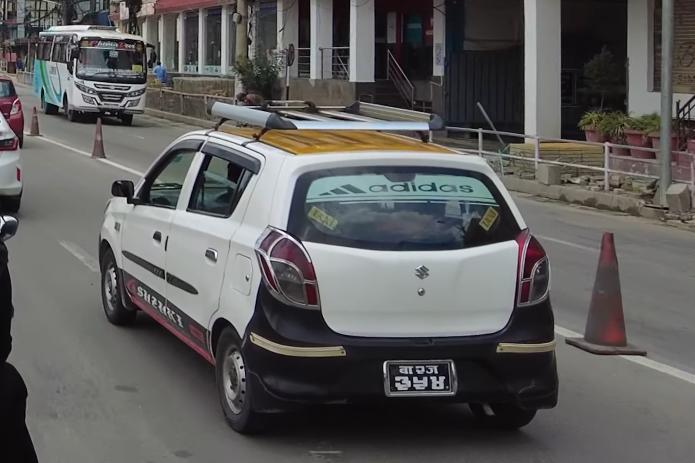bus: (31, 22, 150, 129)
car: (0, 74, 33, 148)
taxi: (82, 98, 563, 443)
